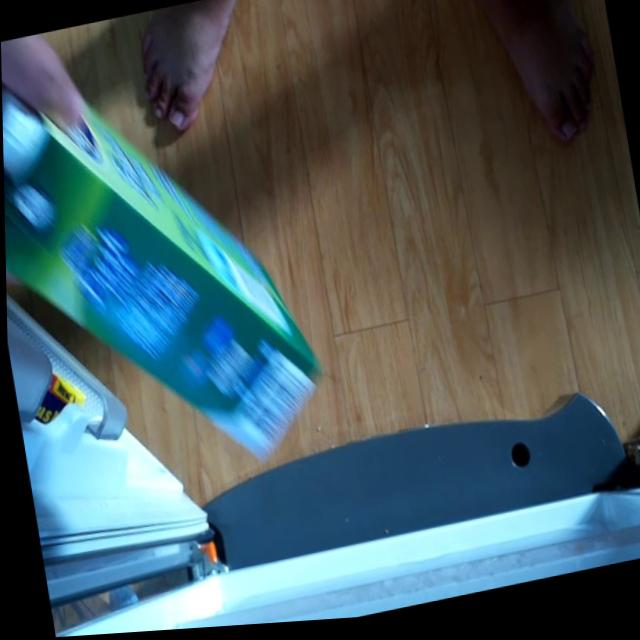milk: (0, 3, 335, 507)
